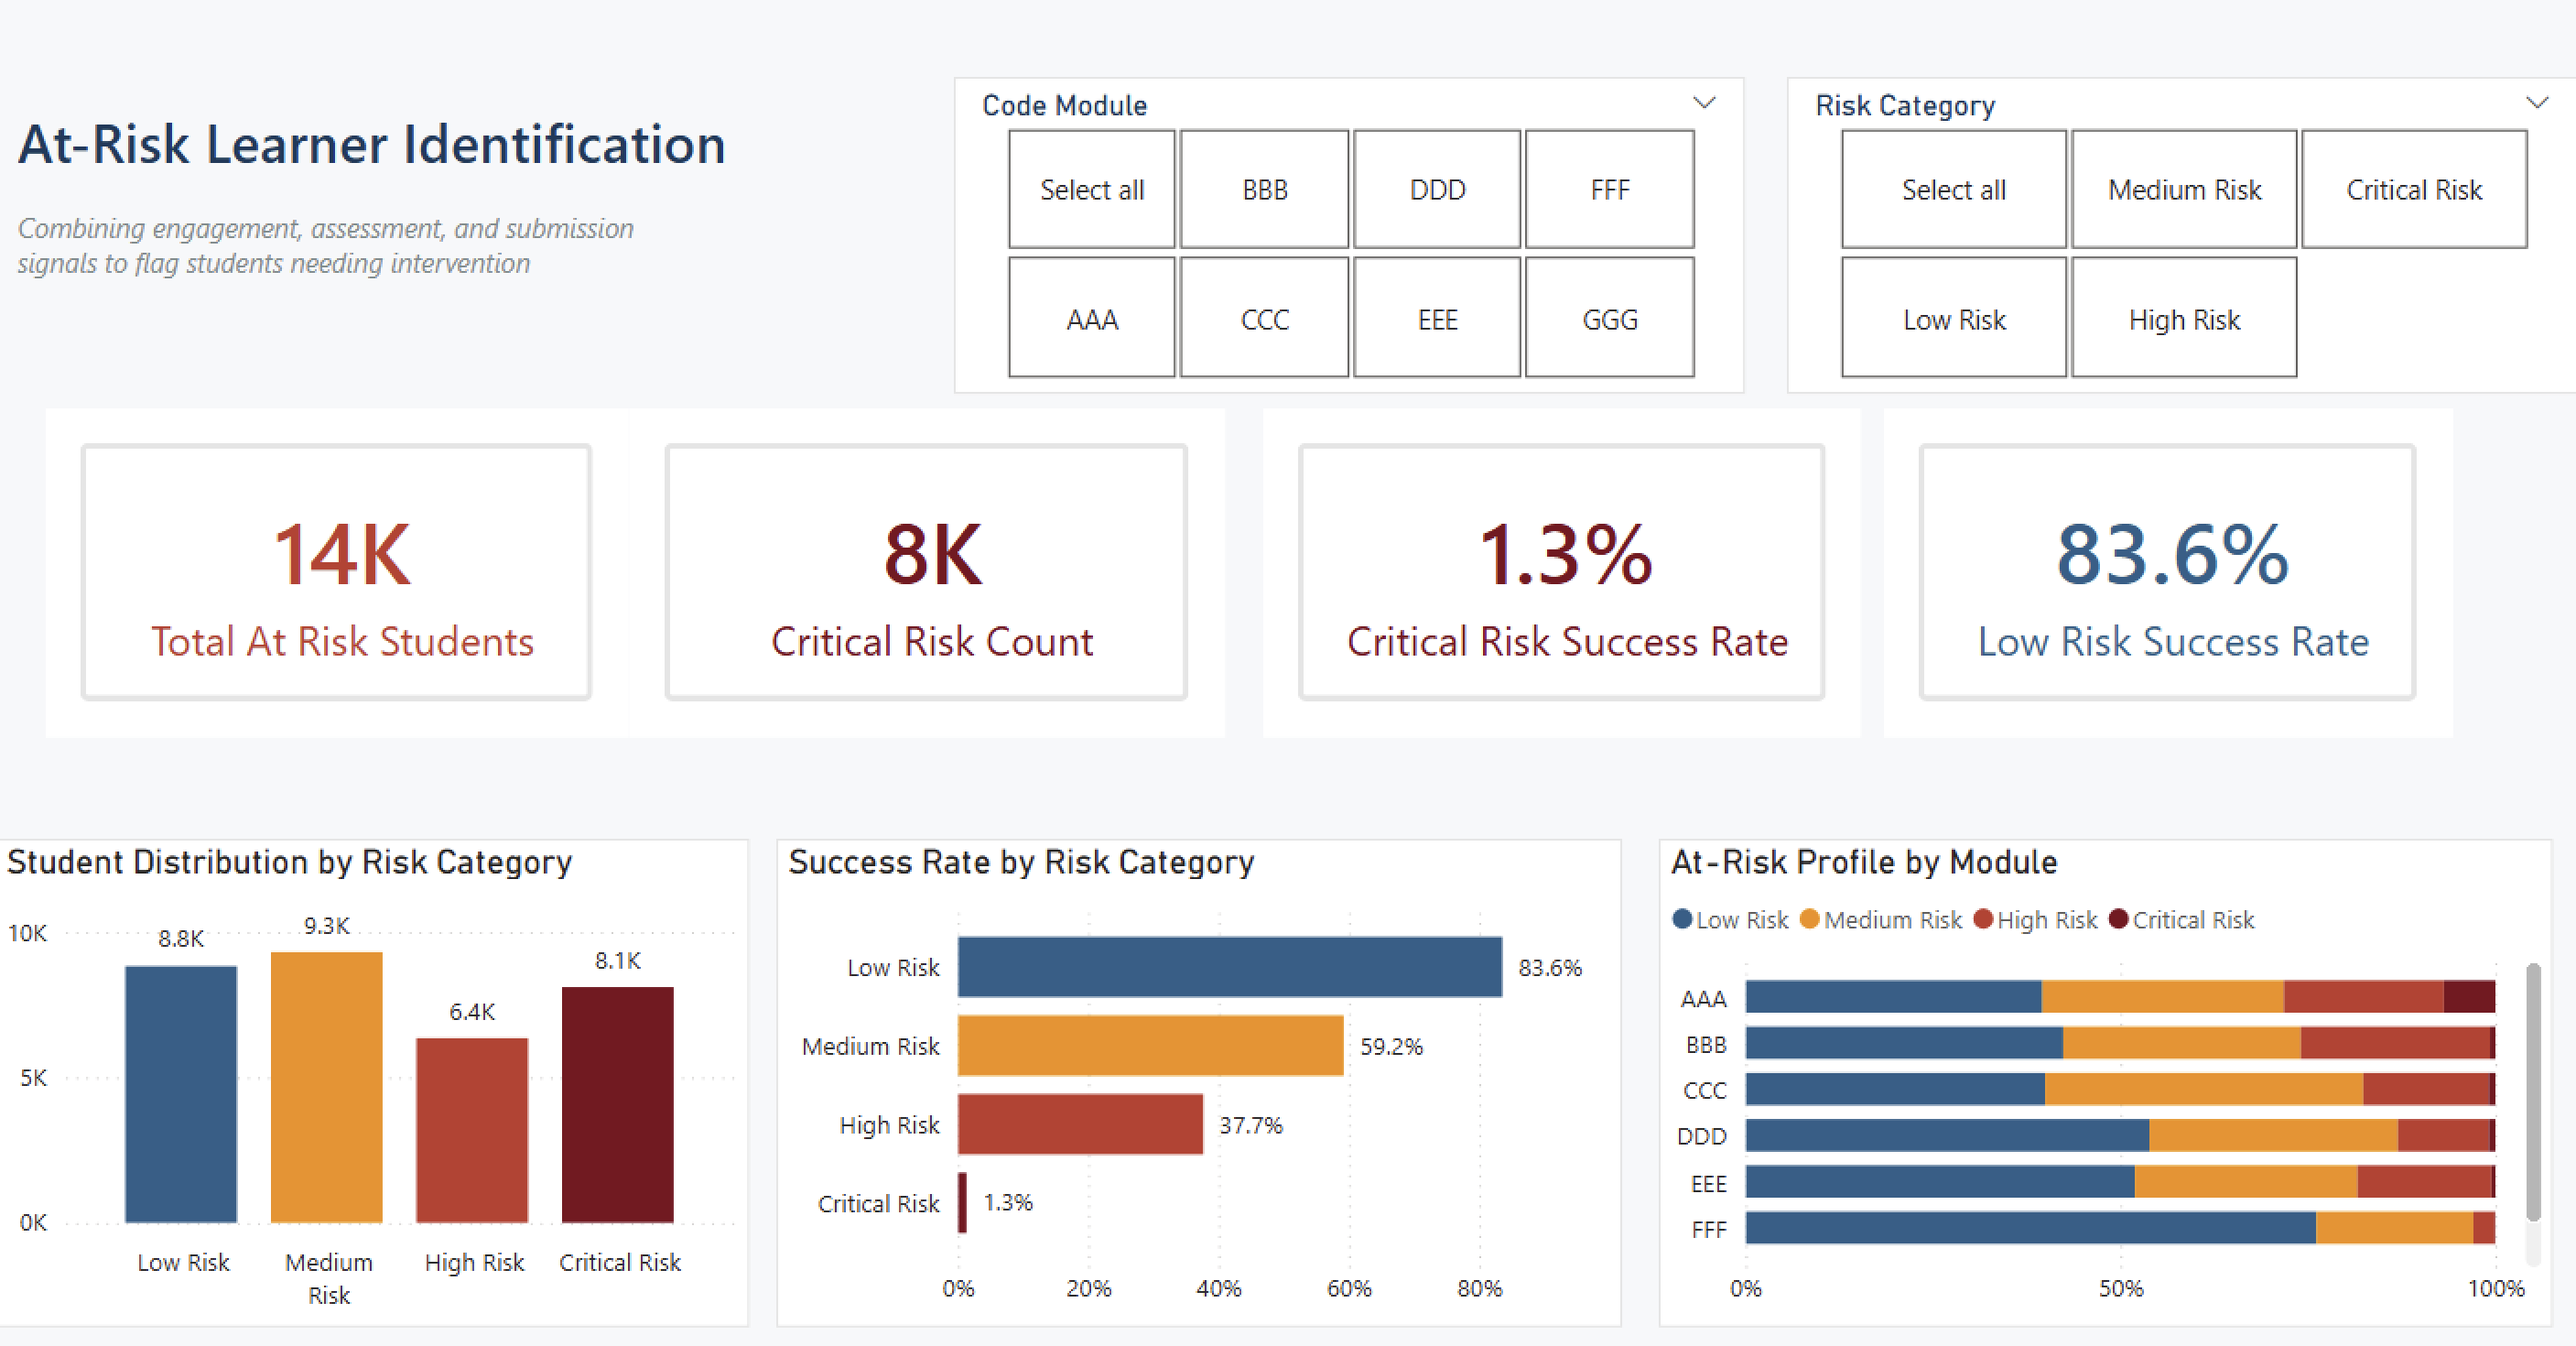

What the dashboard file says about the page in this screenshot:
{"tool":"powerbi","page":{"name":"At-Risk Framework","canvas":[1280,720],"ordinal":2},"visuals":[{"type":"textbox","box":[6.3,56.2,467,68.9],"z":0},{"type":"textbox","box":[6.3,107.9,331.9,51.7],"z":1000},{"type":"cardVisual","fields":{"Data":["student_signals.Total At Risk Students"]},"box":[25.8,211.4,288.8,163],"z":2000},{"type":"cardVisual","fields":{"Data":["student_signals.Critical Risk Count"]},"box":[314.6,211.4,295,163],"z":3000},{"type":"cardVisual","fields":{"Data":["student_signals.Critical Risk Success Rate"]},"box":[628.1,211.4,296,163],"z":4000},{"type":"cardVisual","fields":{"Data":["student_signals.Low Risk Success Rate"]},"box":[935.5,211.4,281.6,163],"z":5000},{"type":"clusteredColumnChart","title":"Student Distribution by Risk Category","fields":{"Category":["student_signals.risk_category"],"Y":["student_signals.Student Count (Risk)"]},"box":[0,424.4,373.6,242.1],"z":6000},{"type":"clusteredBarChart","title":"Success Rate by Risk Category","fields":{"Category":["student_signals.risk_category"],"Y":["student_signals.Success Rate (Risk)"]},"box":[387.2,424.4,418.9,242.1],"z":7000},{"type":"hundredPercentStackedBarChart","title":"At-Risk Profile by Module","fields":{"Category":["student_signals.code_module"],"Y":["student_signals.Success Rate (Risk)"],"Series":["student_signals.risk_category"]},"box":[824.3,424.4,443.4,242.1],"z":8000},{"type":"slicer","fields":{"Values":["pbi_engagement_assessment.code_module"]},"box":[475.5,47.4,391.9,156.8],"z":8001},{"type":"slicer","fields":{"Values":["student_signals.risk_category"]},"box":[888.1,47.4,391.9,156.8],"z":8002}]}

Visuals, with their boxes on the page's 1280x720 design canvas (x1, y1, x2, y2). These are canvas units, not pixel positions in the 2576x1346 screenshot, which may show the page scaled, cropped or inside an application window:
textbox: left=6, top=56, right=473, bottom=125
textbox: left=6, top=108, right=338, bottom=160
cardVisual - student_signals.Total At Risk Students: left=26, top=211, right=315, bottom=374
cardVisual - student_signals.Critical Risk Count: left=315, top=211, right=610, bottom=374
cardVisual - student_signals.Critical Risk Success Rate: left=628, top=211, right=924, bottom=374
cardVisual - student_signals.Low Risk Success Rate: left=936, top=211, right=1217, bottom=374
"Student Distribution by Risk Category" clusteredColumnChart: left=0, top=424, right=374, bottom=666
"Success Rate by Risk Category" clusteredBarChart: left=387, top=424, right=806, bottom=666
"At-Risk Profile by Module" hundredPercentStackedBarChart: left=824, top=424, right=1268, bottom=666
slicer - pbi_engagement_assessment.code_module: left=476, top=47, right=867, bottom=204
slicer - student_signals.risk_category: left=888, top=47, right=1280, bottom=204
